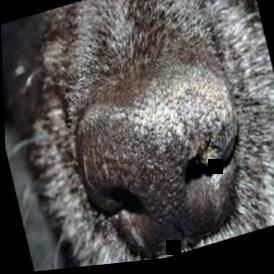keratosis: (55, 52, 255, 239)
